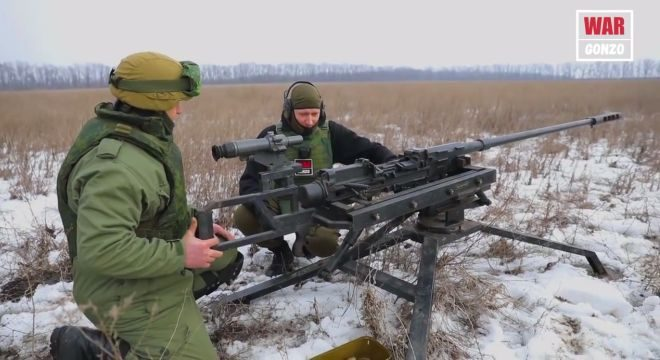Gun: (214, 129, 617, 243)
